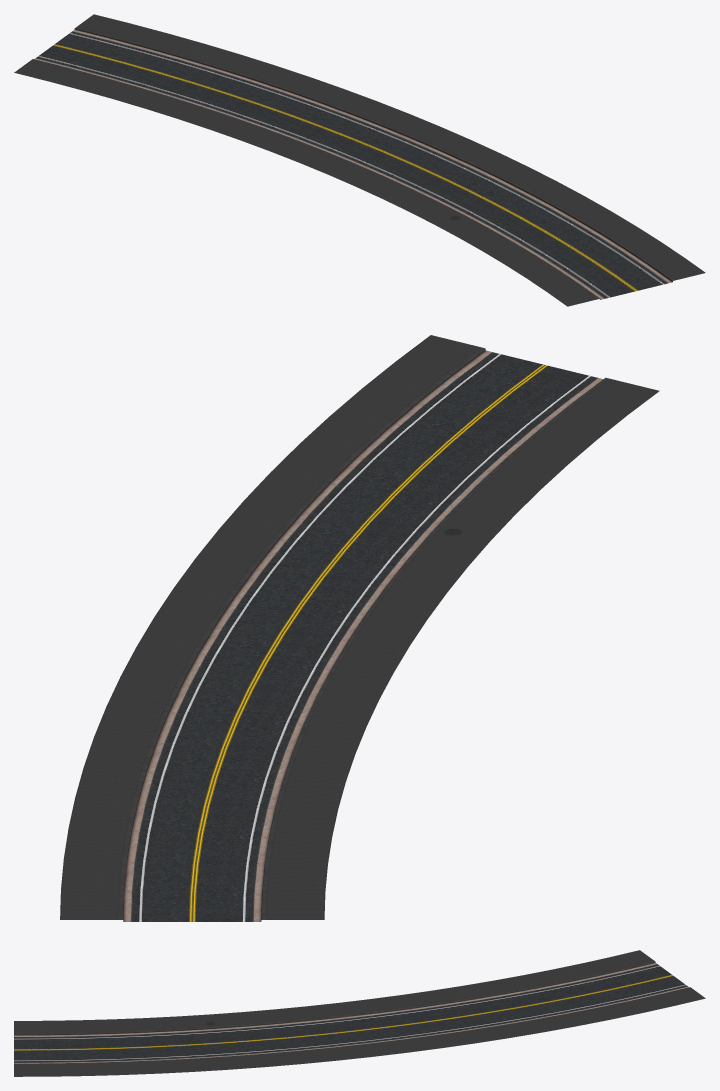
The model's file is or_city_road_US_cont_marking_30left.fbx.
3 views of the same model, one above another, from view 1: azimuth 30°, elevation 25°; view 2: azimuth 150°, elevation 25°; view 3: azimuth 270°, elevation 25° (orthographic). The views are drawn at different scales.
Parts seen in each view (by area): view 1: obj0; view 2: obj0; view 3: obj0.
Part boxes in pixels (x1,y1,x2,y2): obj0: (14,14,705,306); obj0: (60,335,659,921); obj0: (14,950,705,1076).
Size of the model in its own units: 66.25 by 0.254 by 153.
